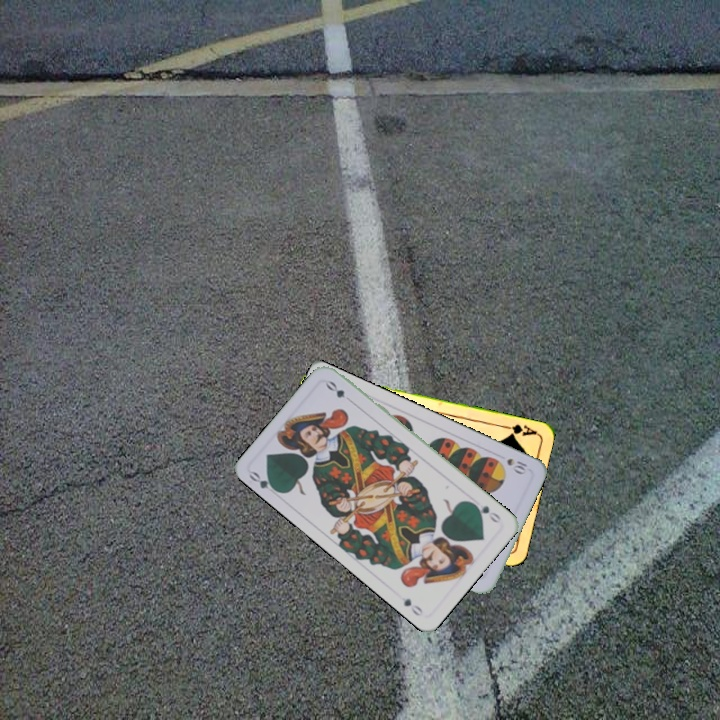GA: (498, 420, 539, 439)
GO: (245, 467, 283, 495), (468, 498, 504, 525)
S10: (503, 454, 531, 477)
